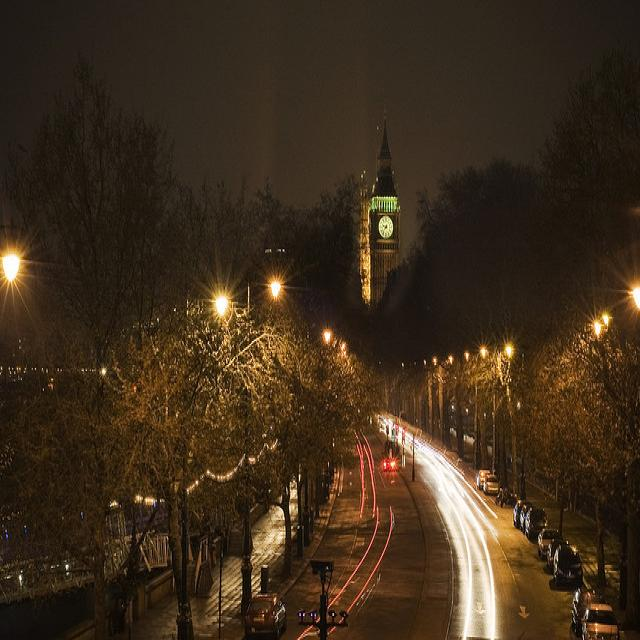motor: (496, 486, 515, 505)
